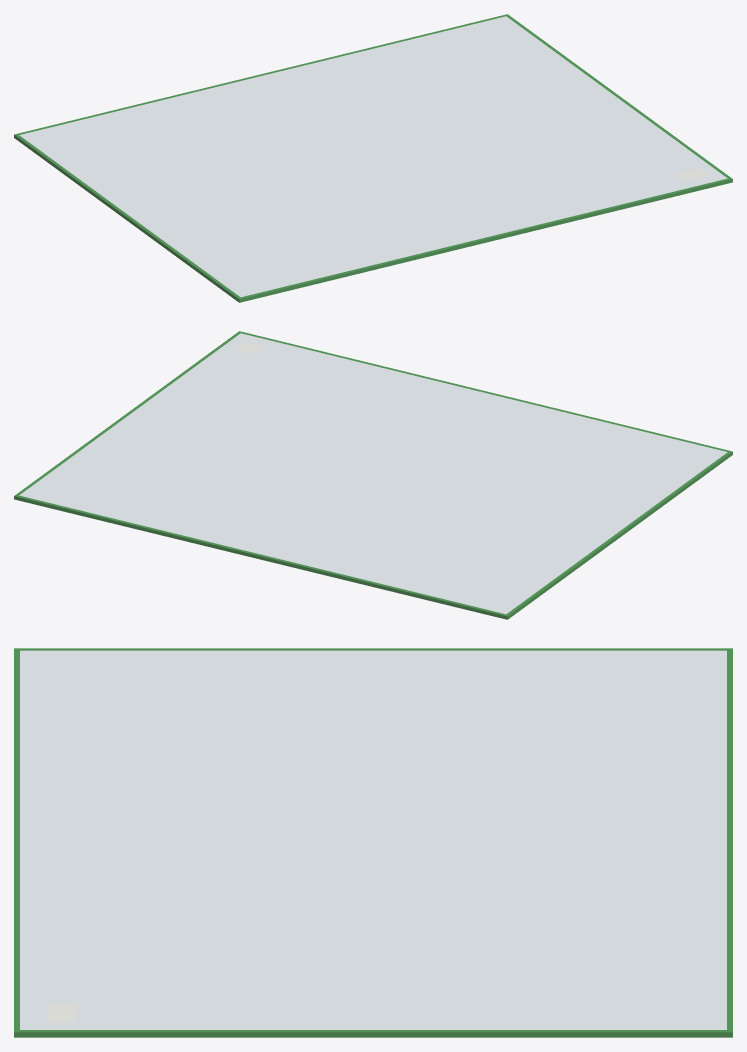
File: tempered_glass_sheet.glb
3 renders of one model, top to bottom at view 1: azimuth 30°, elevation 25°; view 2: azimuth 150°, elevation 25°; view 3: azimuth 270°, elevation 25°, orthographic. The views are drawn at different scales.
Visible parts, largest first — view 1: tempered_glass_sheet:compound; view 2: tempered_glass_sheet:compound; view 3: tempered_glass_sheet:compound.
Boxes of the visible parts, x1=… form: tempered_glass_sheet:compound: x1=14, y1=14, x2=732, y2=302; tempered_glass_sheet:compound: x1=14, y1=331, x2=732, y2=619; tempered_glass_sheet:compound: x1=14, y1=648, x2=732, y2=1037.
Bounding box in the file's own units: 1.22 × 0.008 × 0.968.
